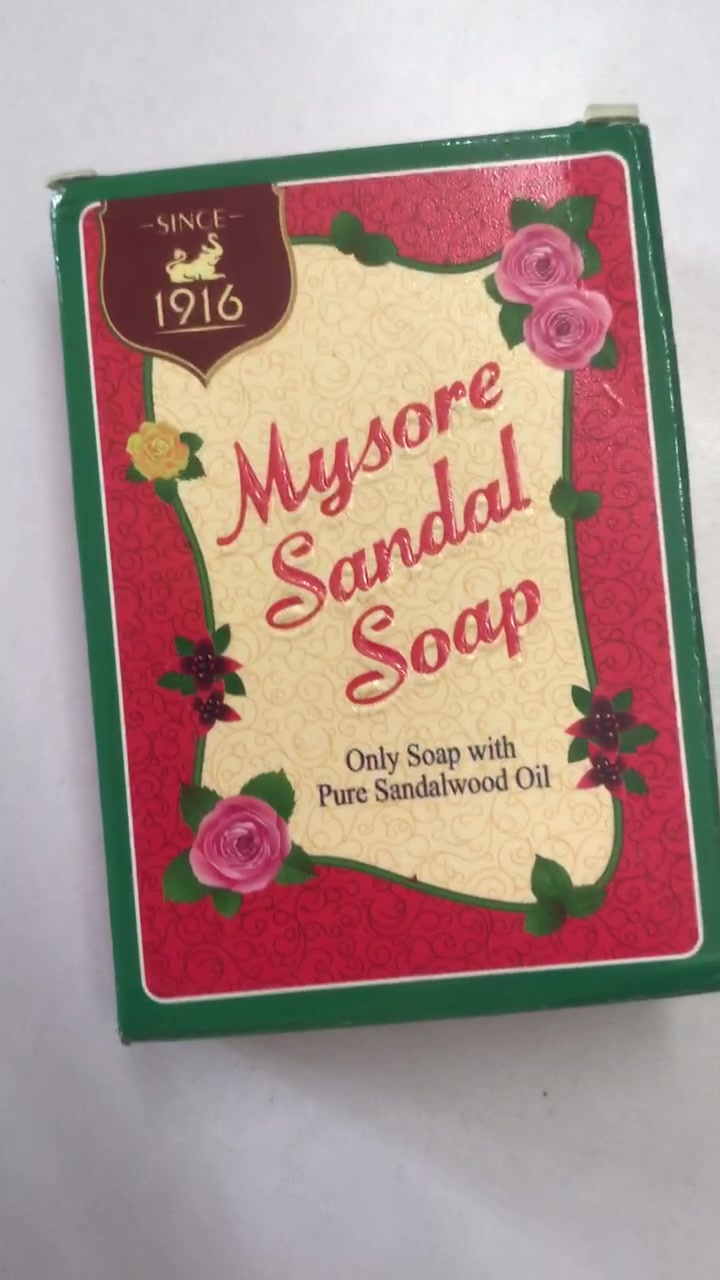mysore sandal soap: (58, 177, 712, 1017)
